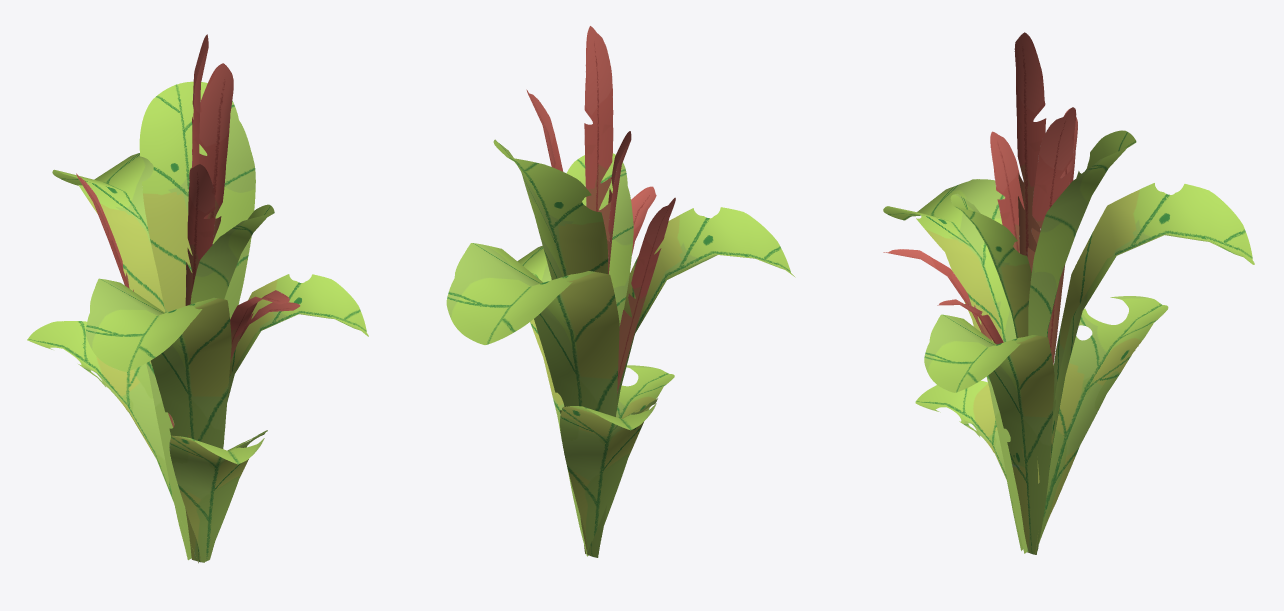
The model's file is SM_RedPlantLong.fbx.
3 views of the same model, side by side, from view 1: azimuth 30°, elevation 25°; view 2: azimuth 150°, elevation 25°; view 3: azimuth 270°, elevation 25° (orthographic).
Visible parts, largest first — view 1: SM_RedPlantLong; view 2: SM_RedPlantLong; view 3: SM_RedPlantLong.
Boxes of the visible parts, x1,y1,x2,y2 form: SM_RedPlantLong: [27, 34, 368, 563]; SM_RedPlantLong: [446, 26, 795, 557]; SM_RedPlantLong: [883, 32, 1254, 554].
Bounding box in the file's own units: 256 × 389 × 274.
